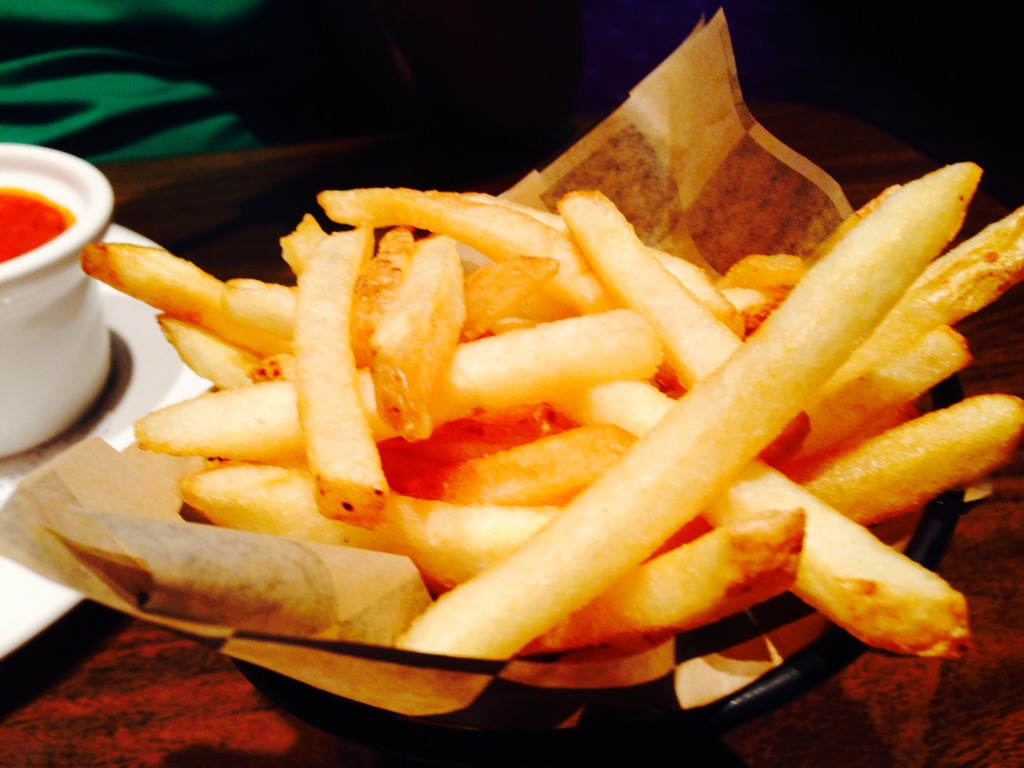French fries: (11, 149, 1023, 714)
